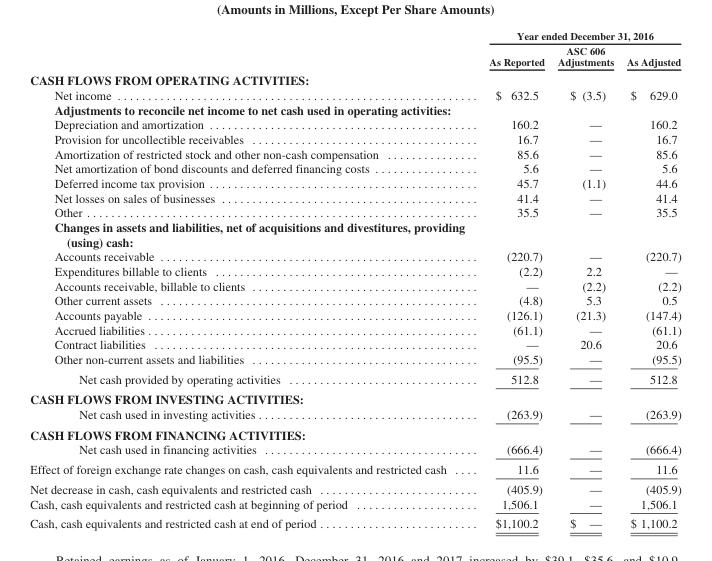table: (29, 29, 680, 530)
table column: (29, 29, 467, 530), (467, 29, 550, 530), (550, 29, 619, 530), (619, 29, 680, 530)
table column header: (29, 29, 680, 69)
table projected row header: (29, 219, 680, 248), (29, 69, 680, 87), (29, 388, 680, 406), (29, 423, 680, 441), (29, 102, 680, 116)
table row: (29, 219, 680, 248), (29, 42, 680, 69), (29, 368, 680, 388), (29, 458, 680, 478), (29, 69, 680, 87), (29, 388, 680, 406), (29, 423, 680, 441), (29, 478, 680, 496), (29, 351, 680, 368), (29, 406, 680, 423), (29, 441, 680, 458), (29, 496, 680, 513), (29, 513, 680, 530), (29, 87, 680, 102), (29, 116, 680, 131), (29, 131, 680, 146), (29, 160, 680, 175), (29, 175, 680, 190), (29, 204, 680, 219), (29, 248, 680, 263), (29, 263, 680, 278), (29, 292, 680, 307), (29, 307, 680, 322), (29, 336, 680, 351), (29, 102, 680, 116), (29, 146, 680, 160), (29, 190, 680, 204), (29, 278, 680, 292), (29, 322, 680, 336), (29, 29, 680, 42)
table spanning cell: (467, 29, 680, 42)
